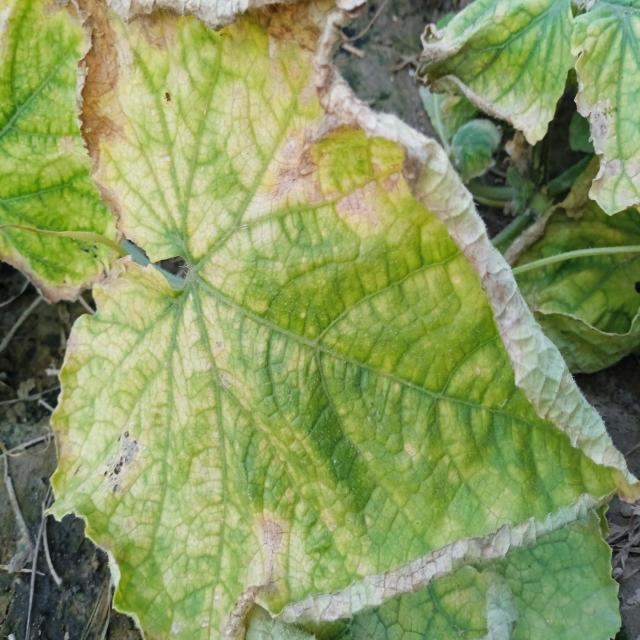cucumber_gummy: (33, 0, 640, 640)
